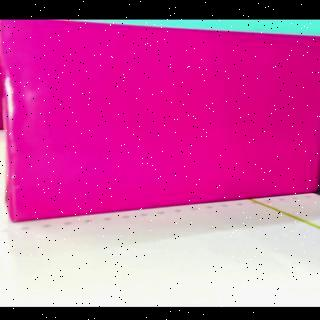xparking: (0, 23, 320, 220)
